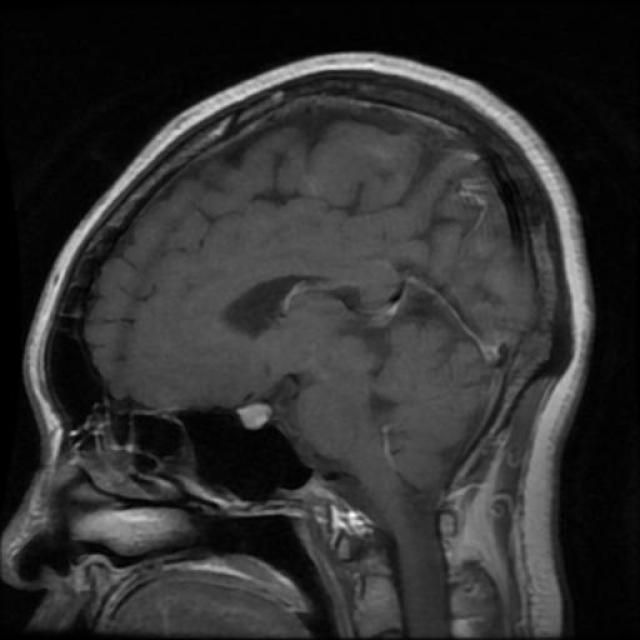pituitary: (214, 403, 298, 440)
